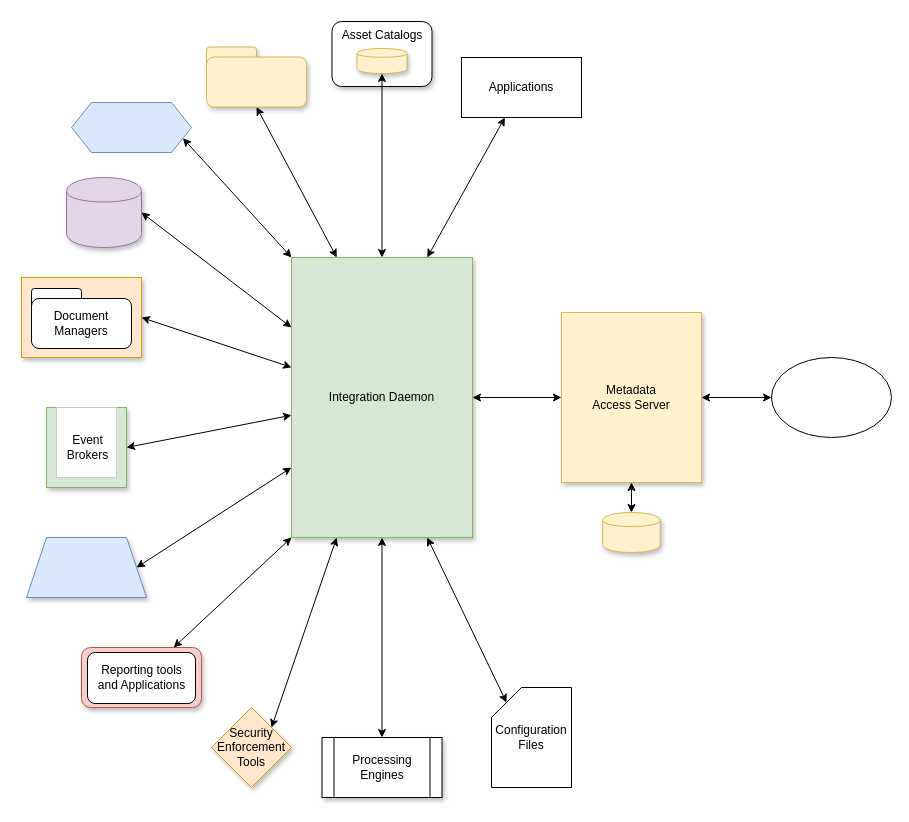
Some shapes in this 909 by 822 pixel diagram are drawn without their labels. Here are the shapes that lost their labels. From the top down, the centre of each, then its label:
the point at 257,83: File systems
the point at 131,127: Search Engines
the point at 105,213: Database Servers
the point at 831,397: Cohort
the point at 87,568: API Managers
